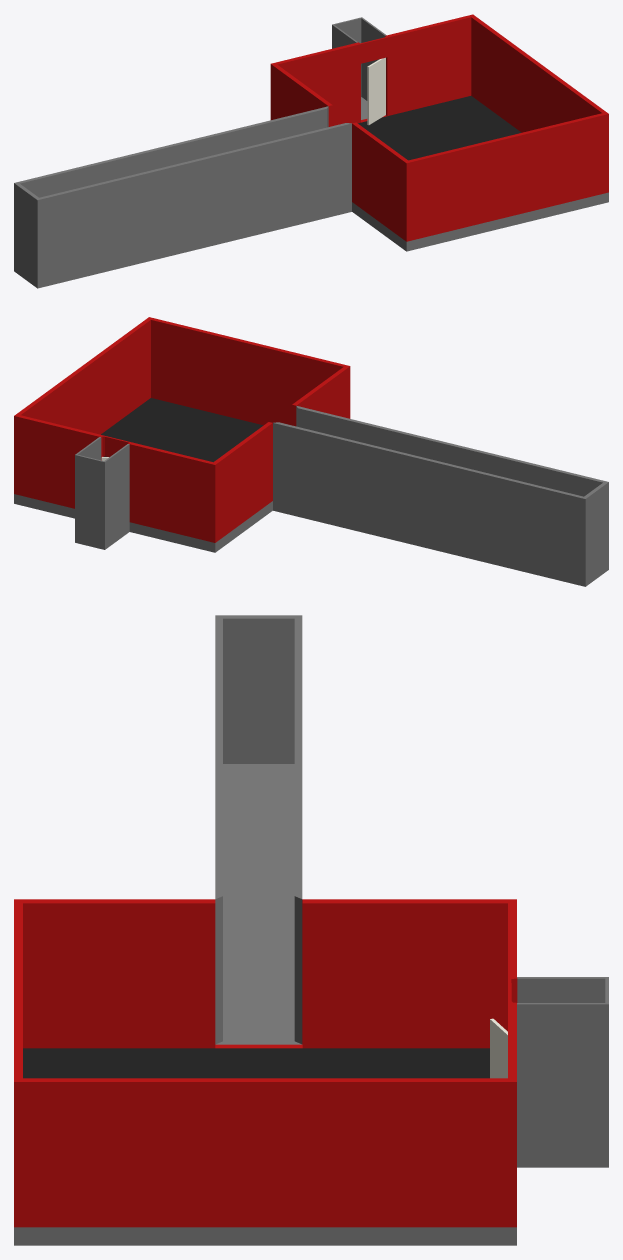
The model's file is Mockup_room_unity_v2.fbx.
The picture shows the model from 3 angles, top to bottom: view 1: azimuth 30°, elevation 25°; view 2: azimuth 150°, elevation 25°; view 3: azimuth 270°, elevation 25°; orthographic projection. The views are drawn at different scales.
Parts seen in each view (by area): view 1: Box001, Box002; view 2: Box001; view 3: Box001, Box002.
Part boxes in pixels (bbox=[...]): Box001: bbox=[14, 14, 608, 288]; Box002: bbox=[367, 57, 385, 125]; Box001: bbox=[14, 317, 608, 586]; Box001: bbox=[14, 615, 608, 1245]; Box002: bbox=[490, 1018, 507, 1078].
Size of the model in its own units: 524 by 85.49 by 282.
